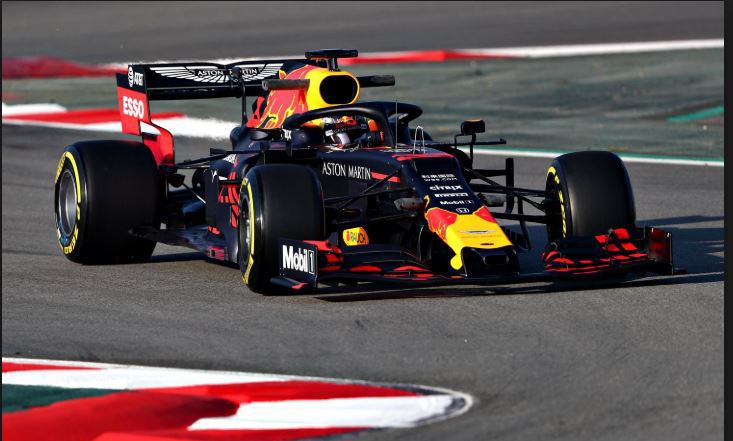F1 Car: (45, 41, 690, 302)
